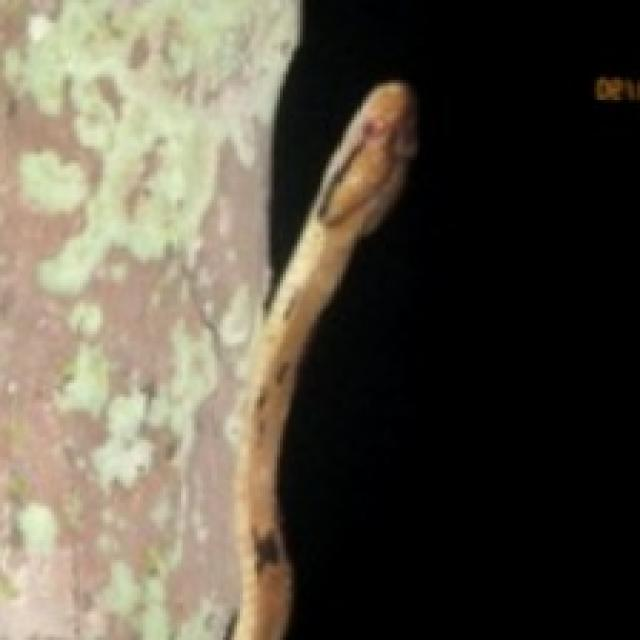dog-toothed cat snake: (234, 80, 414, 637)
